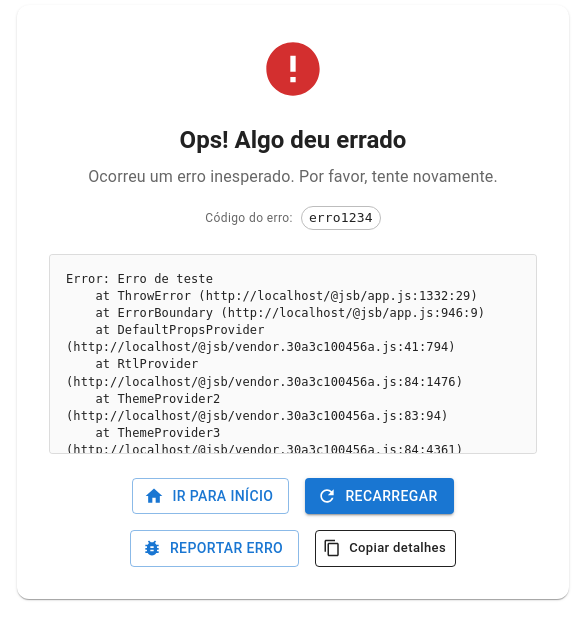
Test: ErrorBoundary › registra feedback de bug quando usuário reporta erro
Click the button "Reportar erro": click(215, 548) [130,530,299,567]
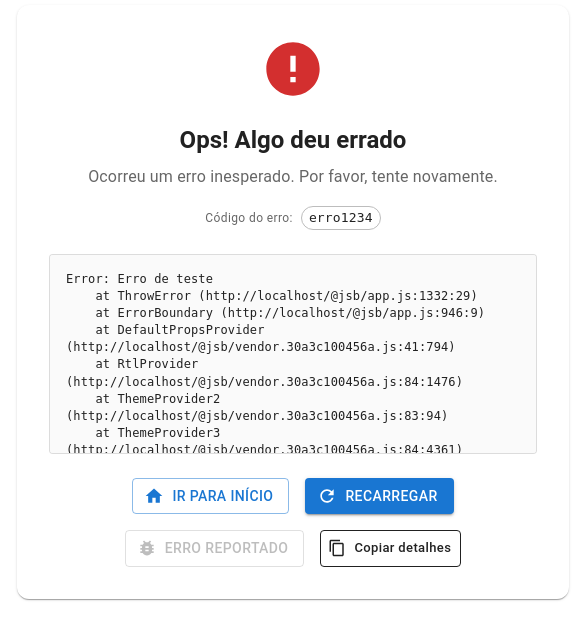
Check: the button "Erro reportado" is shown, box [125,530,304,567]
